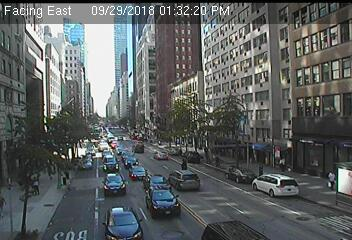car: (202, 221, 268, 240), (105, 207, 142, 240), (252, 174, 300, 198), (145, 186, 181, 218), (170, 169, 200, 191), (225, 168, 256, 184), (144, 173, 170, 192), (104, 173, 126, 195), (129, 165, 148, 180), (103, 155, 119, 172), (183, 151, 200, 165), (123, 155, 141, 168), (131, 142, 145, 154), (153, 150, 168, 161), (79, 160, 95, 170)
